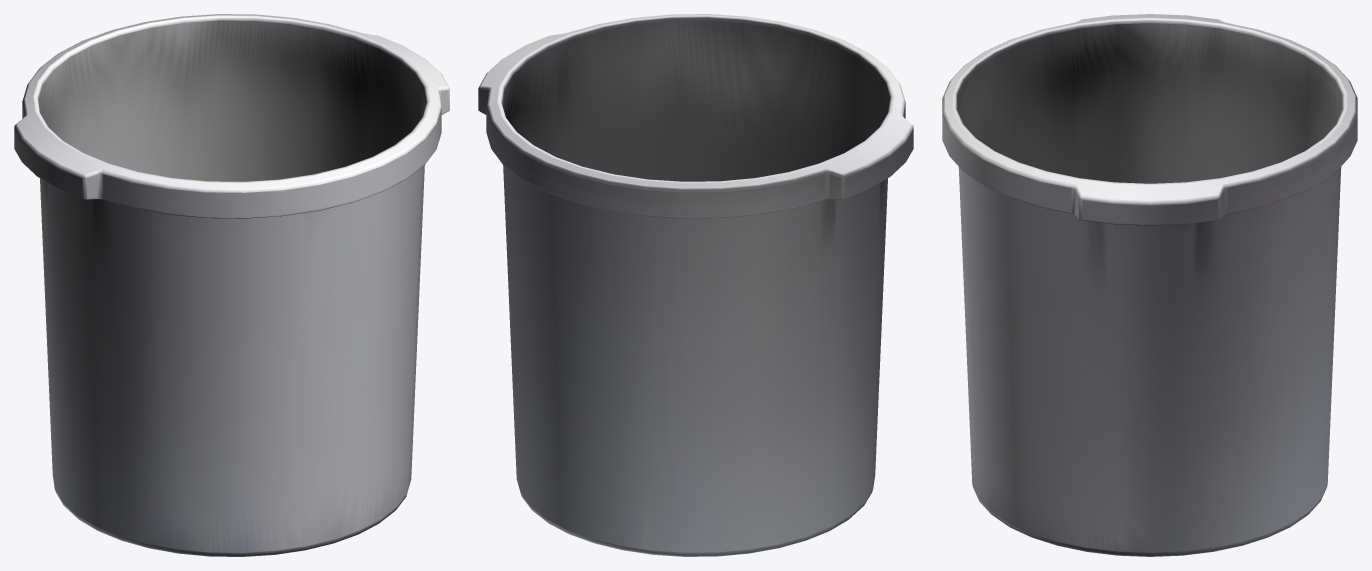
The model's file is abano.glb.
The picture shows the model from 3 angles, left to right: view 1: azimuth 30°, elevation 25°; view 2: azimuth 150°, elevation 25°; view 3: azimuth 270°, elevation 25°; orthographic projection.
Visible parts, largest first — view 1: abano-white; view 2: abano-white; view 3: abano-white.
Boxes of the visible parts, left/top/right/bottom form: abano-white: left=14, top=14, right=449, bottom=556; abano-white: left=478, top=14, right=913, bottom=556; abano-white: left=942, top=14, right=1357, bottom=556.
Bounding box in the file's own units: 0.3117 × 0.2943 × 0.2894.
1 material, 1 textured.
